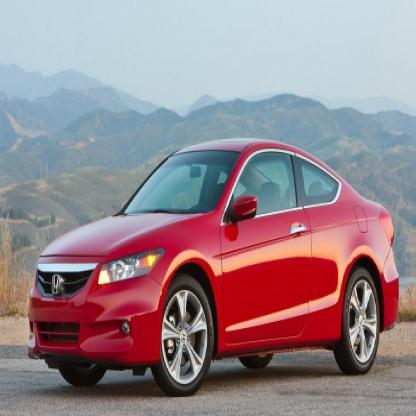Vehicle: (26, 140, 399, 396)
